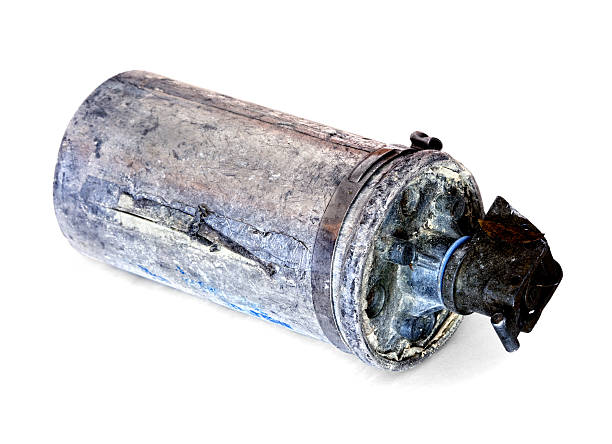e1: (51, 68, 565, 373)
